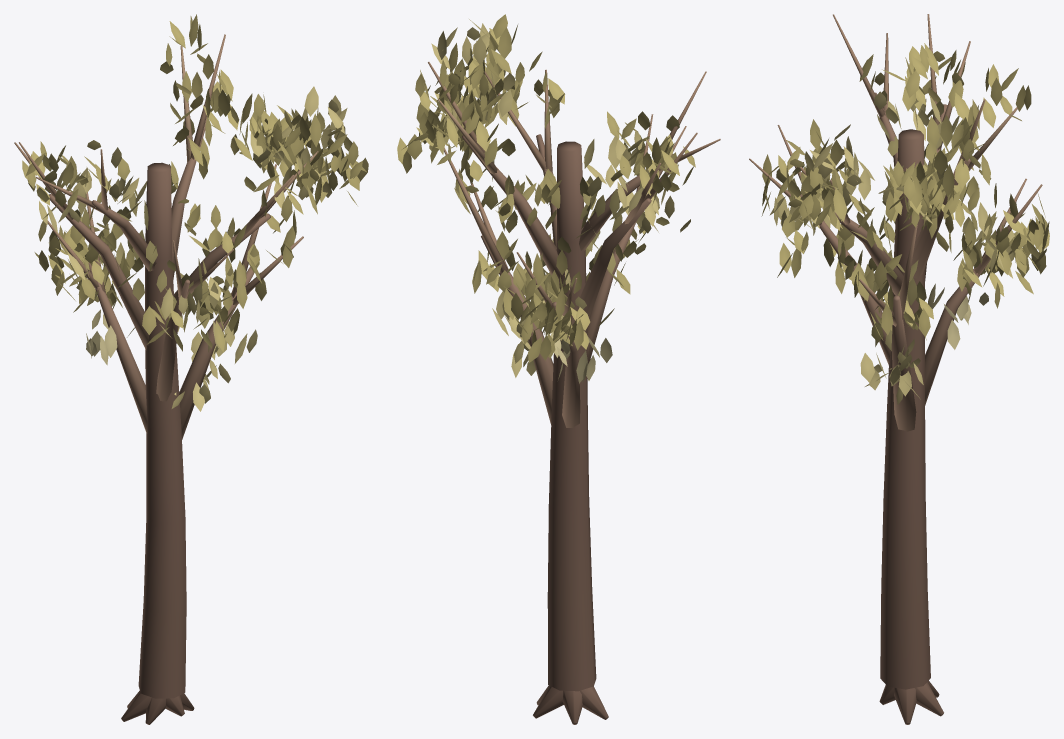
File: tree_3d_02_yellow.glb
The picture shows the model from 3 angles, left to right: view 1: azimuth 30°, elevation 25°; view 2: azimuth 150°, elevation 25°; view 3: azimuth 270°, elevation 25°; orthographic projection. The views are drawn at different scales.
Visible parts, largest first — view 1: tree_3d_02_yellow_foliage, tree_3d_02_yellow_wood; view 2: tree_3d_02_yellow_foliage, tree_3d_02_yellow_wood; view 3: tree_3d_02_yellow_foliage, tree_3d_02_yellow_wood.
Boxes of the visible parts, x1,y1,x2,y2 form: tree_3d_02_yellow_foliage: (22, 14, 368, 411); tree_3d_02_yellow_wood: (14, 34, 318, 724); tree_3d_02_yellow_foliage: (397, 14, 695, 383); tree_3d_02_yellow_wood: (428, 62, 720, 724); tree_3d_02_yellow_foliage: (761, 43, 1049, 404); tree_3d_02_yellow_wood: (749, 14, 1042, 724).
Bounding box in the file's own units: 5.83 × 12.09 × 4.89.
